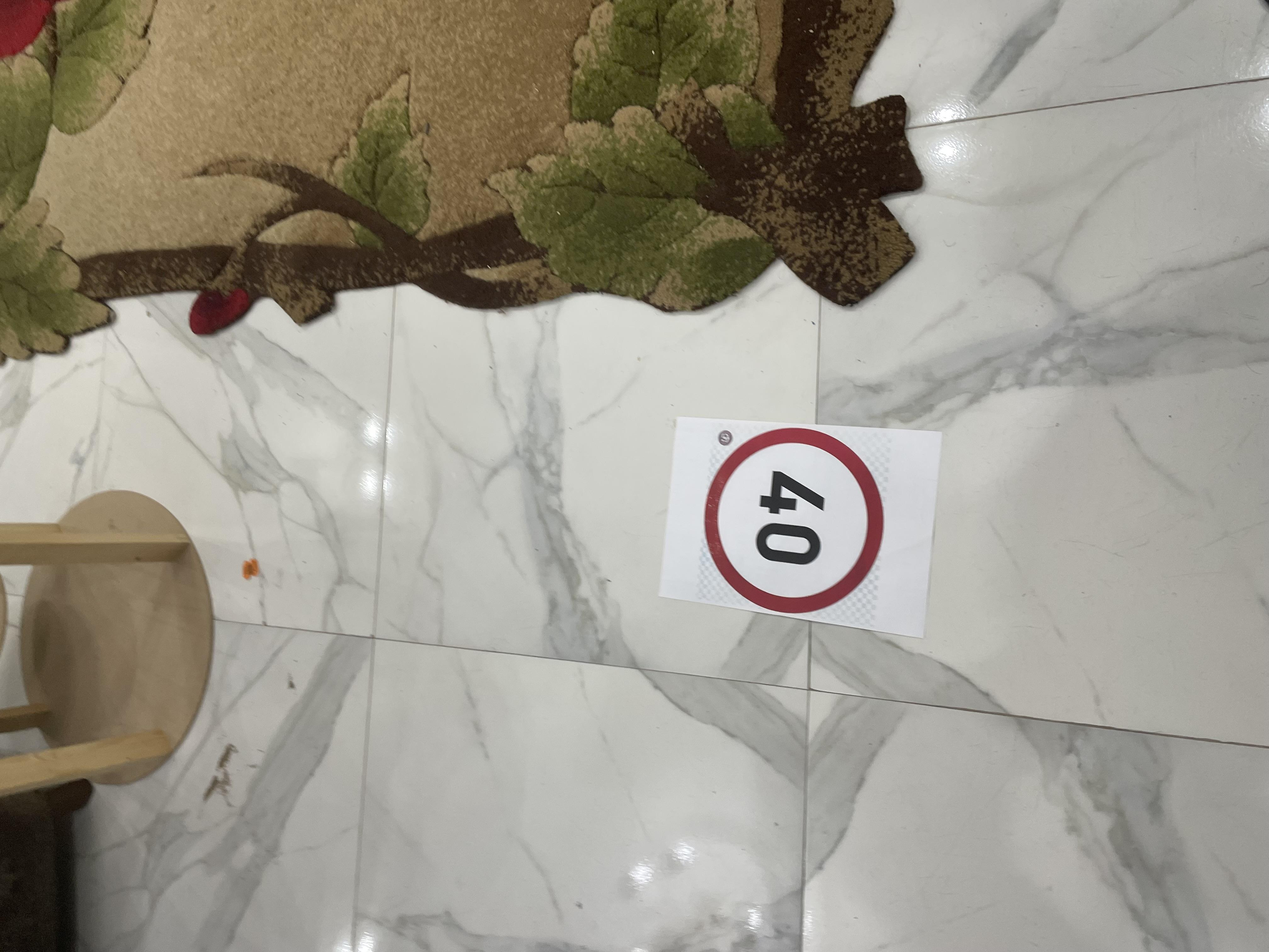40-Speed: (448, 527, 705, 667)
